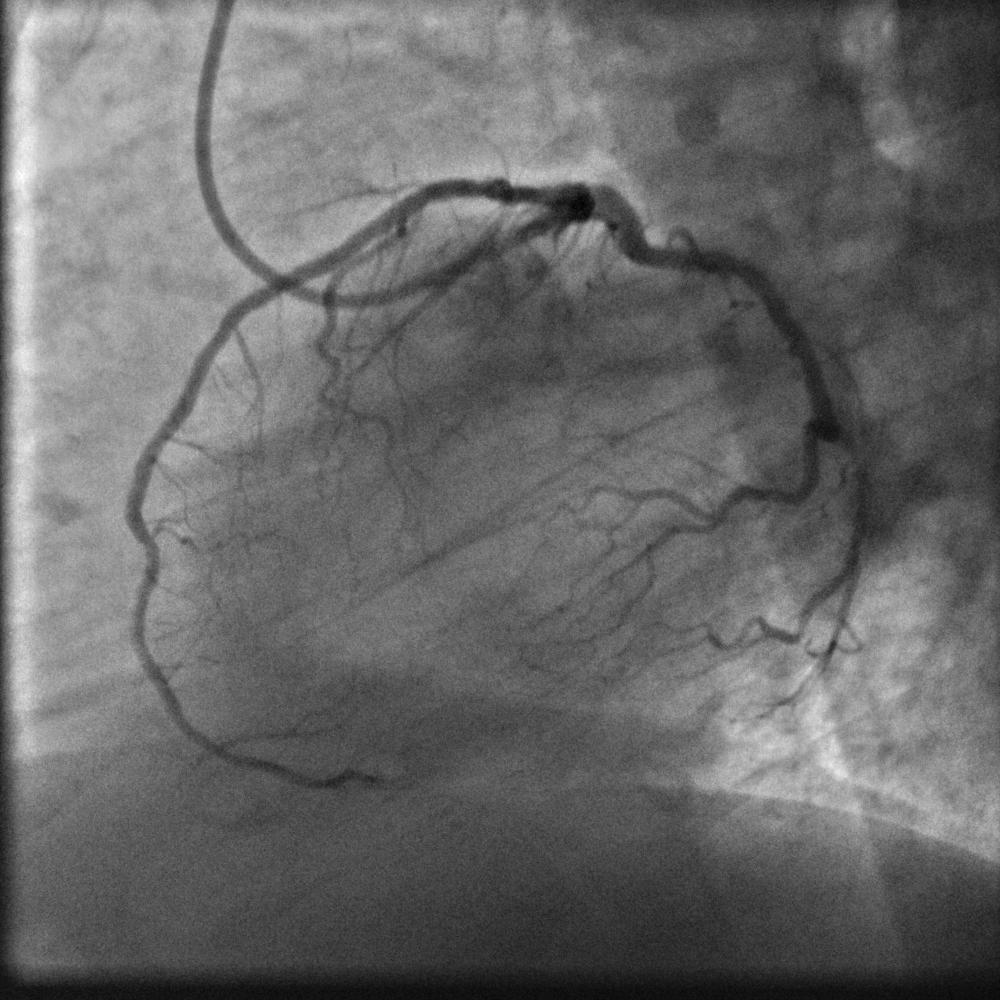Stenosis: (471, 174, 515, 204)
